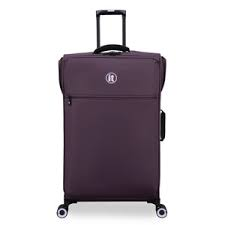suitcase: (53, 8, 168, 221)
